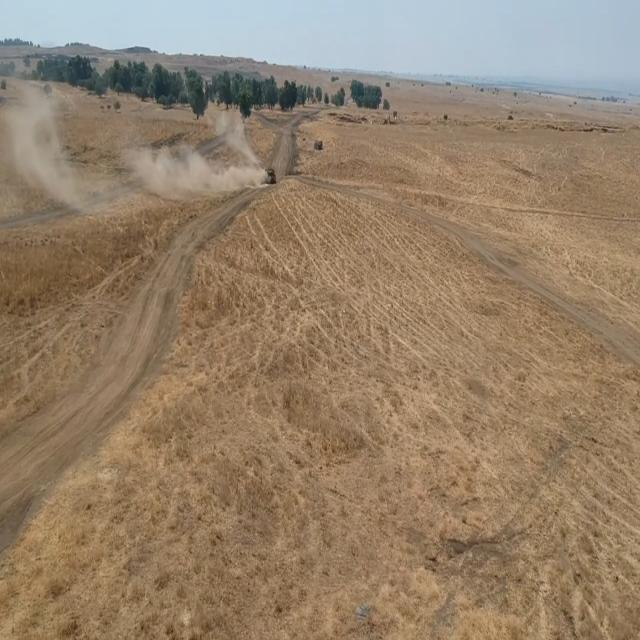tank: (261, 161, 278, 187)
